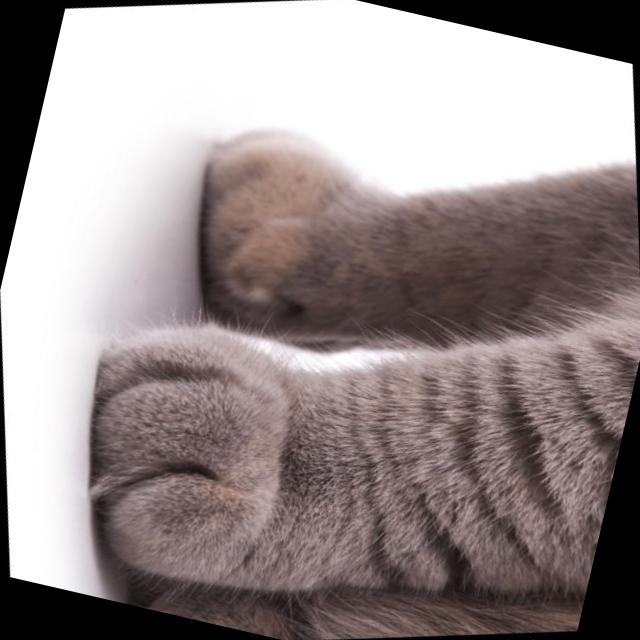Healthy skin: (266, 312, 634, 627), (317, 156, 614, 337), (109, 320, 313, 572), (432, 516, 595, 640)
